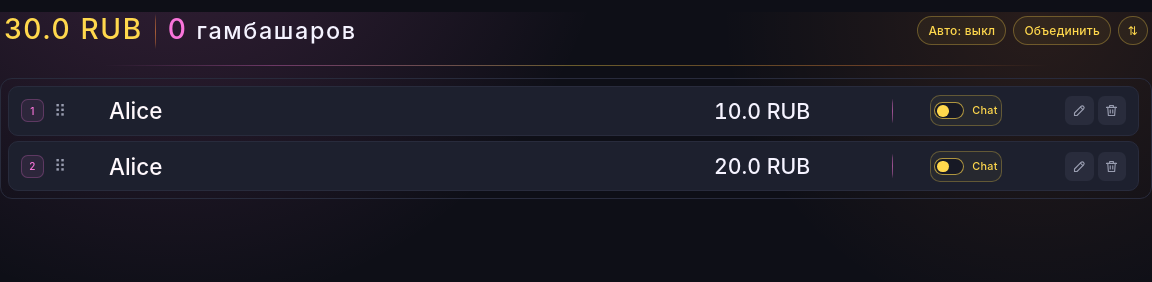
Test case: collapsible sections › manually groups adjacent compatible donations without changing entry data
Step 1. Click the button "Объединить" → (1062,30), box [1013, 16, 1111, 45]
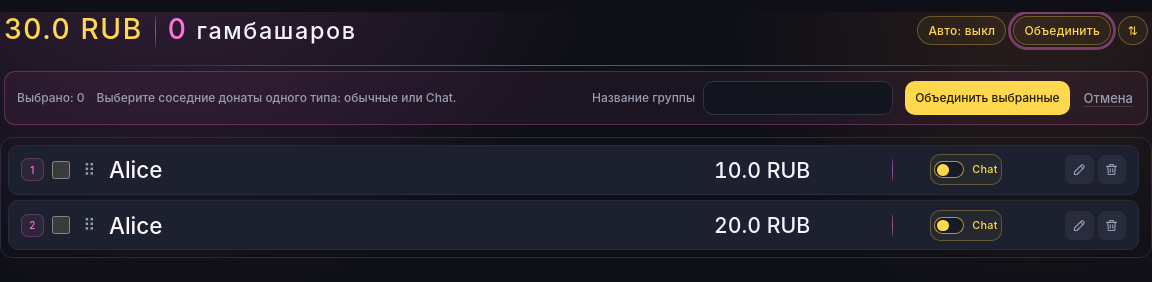
Step 2. Click the checkbox named "Выбрать донат Alice для объединения" in the row of "10.0" → (61,170), box [52, 161, 70, 179]
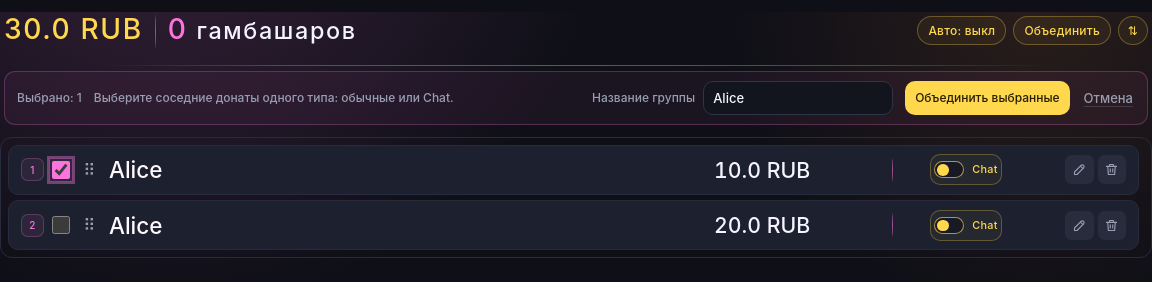
Step 3. Click the checkbox named "Выбрать донат Alice для объединения" in the row of "20.0" → (61,225), box [52, 216, 70, 234]
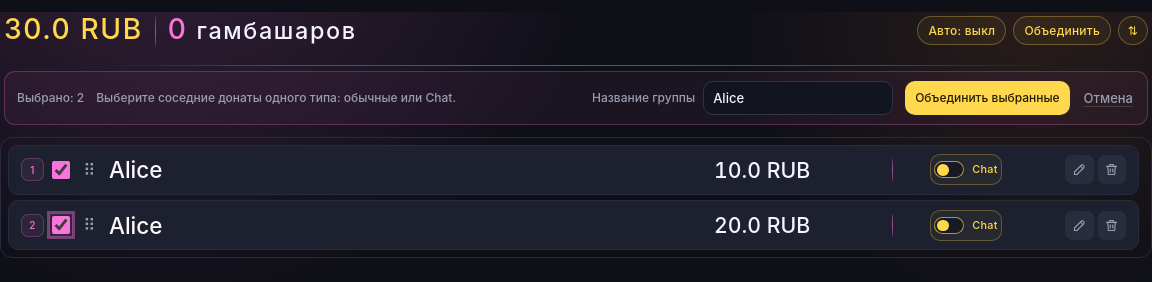
Step 4. Click the button "Объединить выбранные" → (987,98), box [905, 81, 1070, 115]
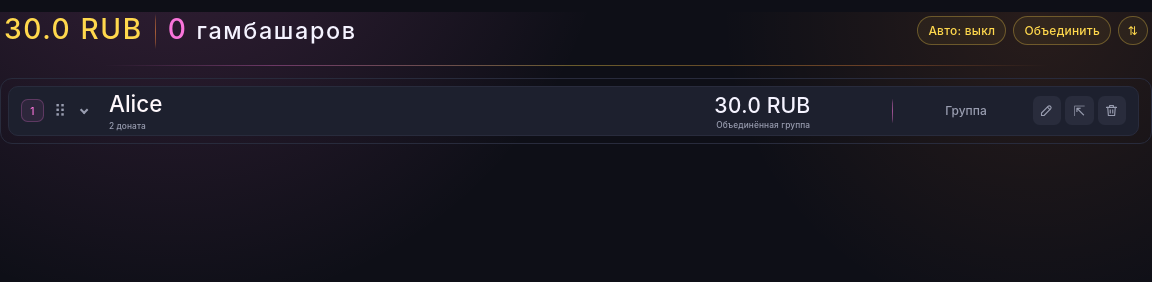
Check: the element with class "merged-row" shows "Alice", box [109, 90, 162, 117]
Check: the element with class "merged-row" shows "2 доната", box [109, 121, 146, 131]
Check: the element with class "merged-row" shows "30.0 RUB", box [8, 86, 1139, 136]
Step 5. Click the button named "Раскрыть группу Alice" → (84,111), box [75, 97, 93, 124]
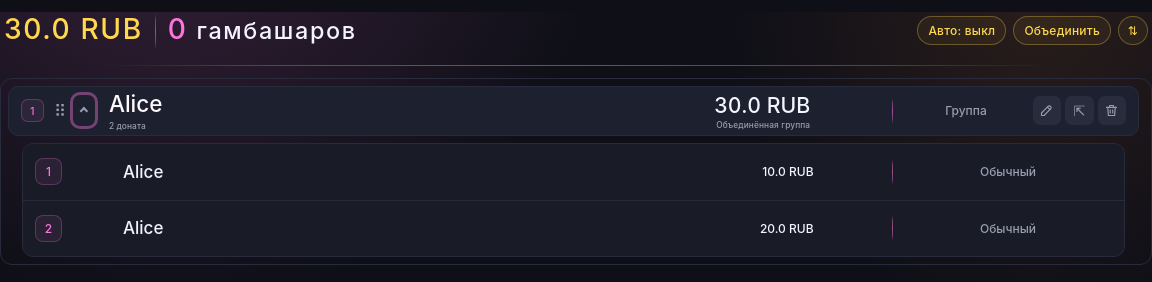
Check: the button named "Свернуть группу Alice" is expanded, box [75, 97, 93, 124]
Check: the element named "Донаты группы Alice" is shown, box [22, 143, 1125, 257]
Check: the number of elements with class "grouped-donation-row" is 2, box [23, 144, 1124, 200]; [23, 200, 1124, 256]
Step 6. Click the button named "Разъединить группу Alice" → (1079,111), box [1065, 96, 1094, 125]
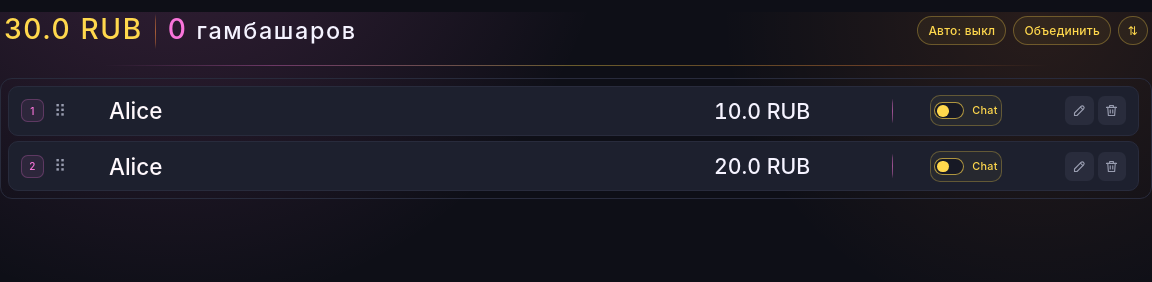
Check: the element with class "merged-row" is gone
Check: the text "Alice" is shown 2 times, box [109, 97, 162, 124]; [109, 153, 162, 180]
